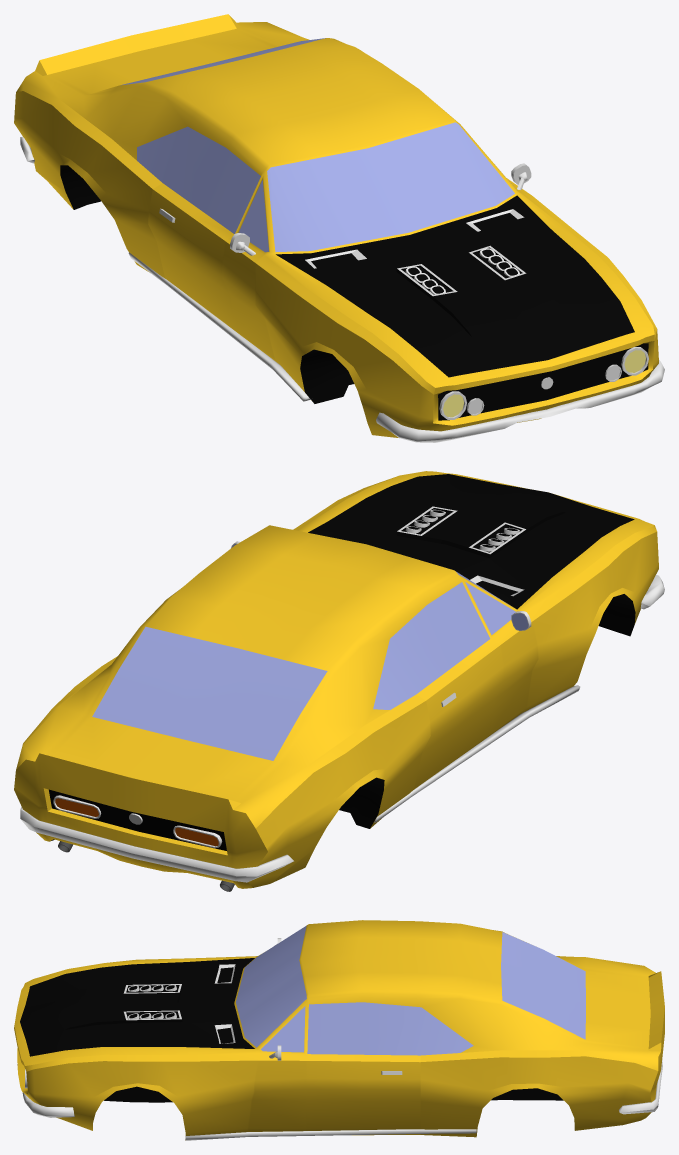
The model's file is yellow car model FIXED.fbx.
3 views of the same model, one above another, from view 1: azimuth 30°, elevation 25°; view 2: azimuth 150°, elevation 25°; view 3: azimuth 270°, elevation 25° (orthographic). The views are drawn at different scales.
Parts seen in each view (by area): view 1: Cube; view 2: Cube; view 3: Cube.
Part boxes in pixels (x1,y1,x2,y2): Cube: (14, 14, 664, 442); Cube: (14, 471, 664, 891); Cube: (14, 920, 664, 1140).
Bounding box in the file's own units: 142 × 81.14 × 346.
